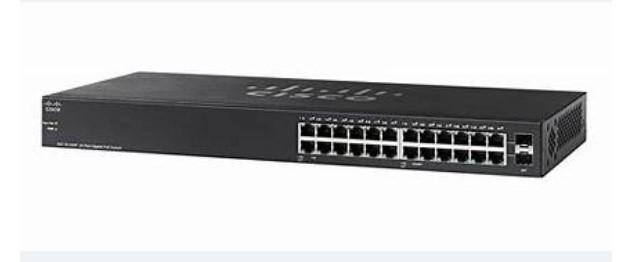NetworkSwitch: (39, 72, 589, 179)
